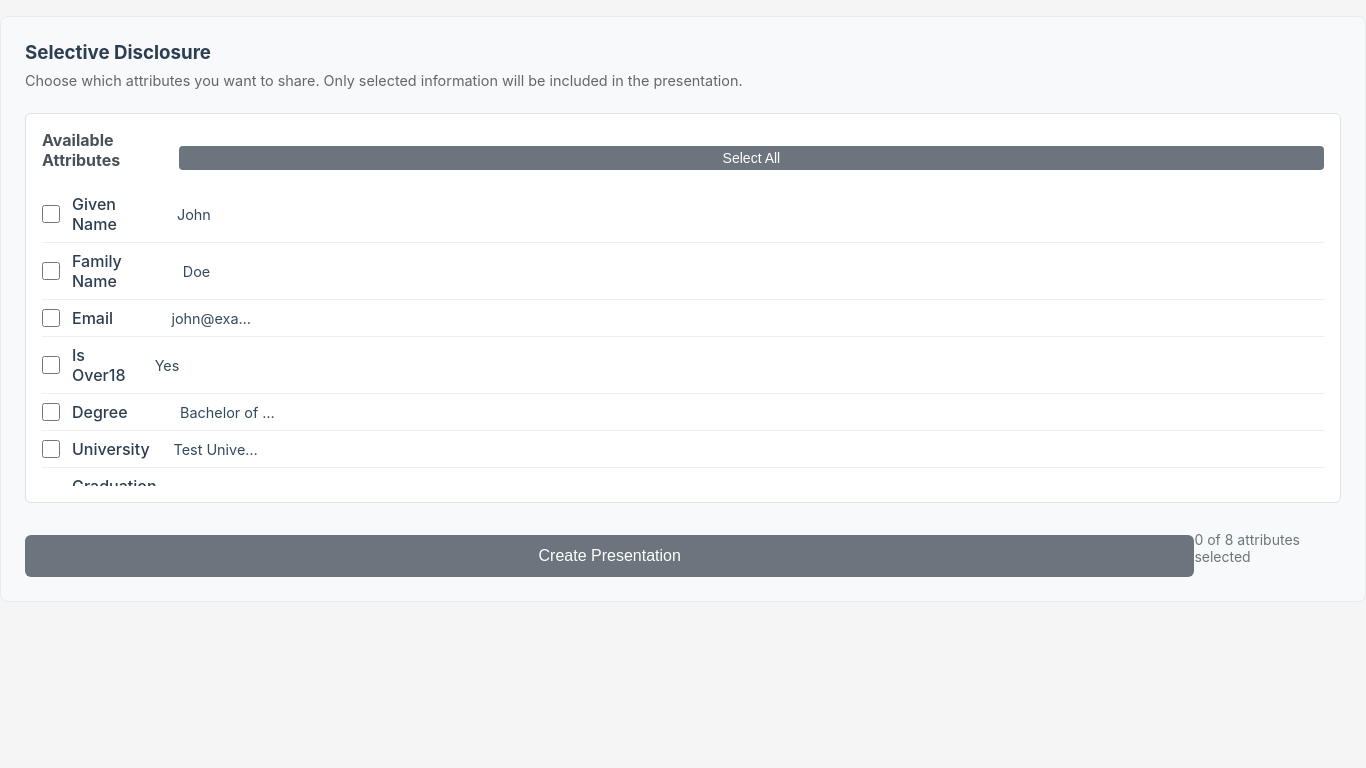
Scenario: SelectiveDisclosure › should create selective presentation when button clicked
# Select a few attributes
Click the checkbox labelled "Family Name Doe": (51, 271) [42,262,60,280]
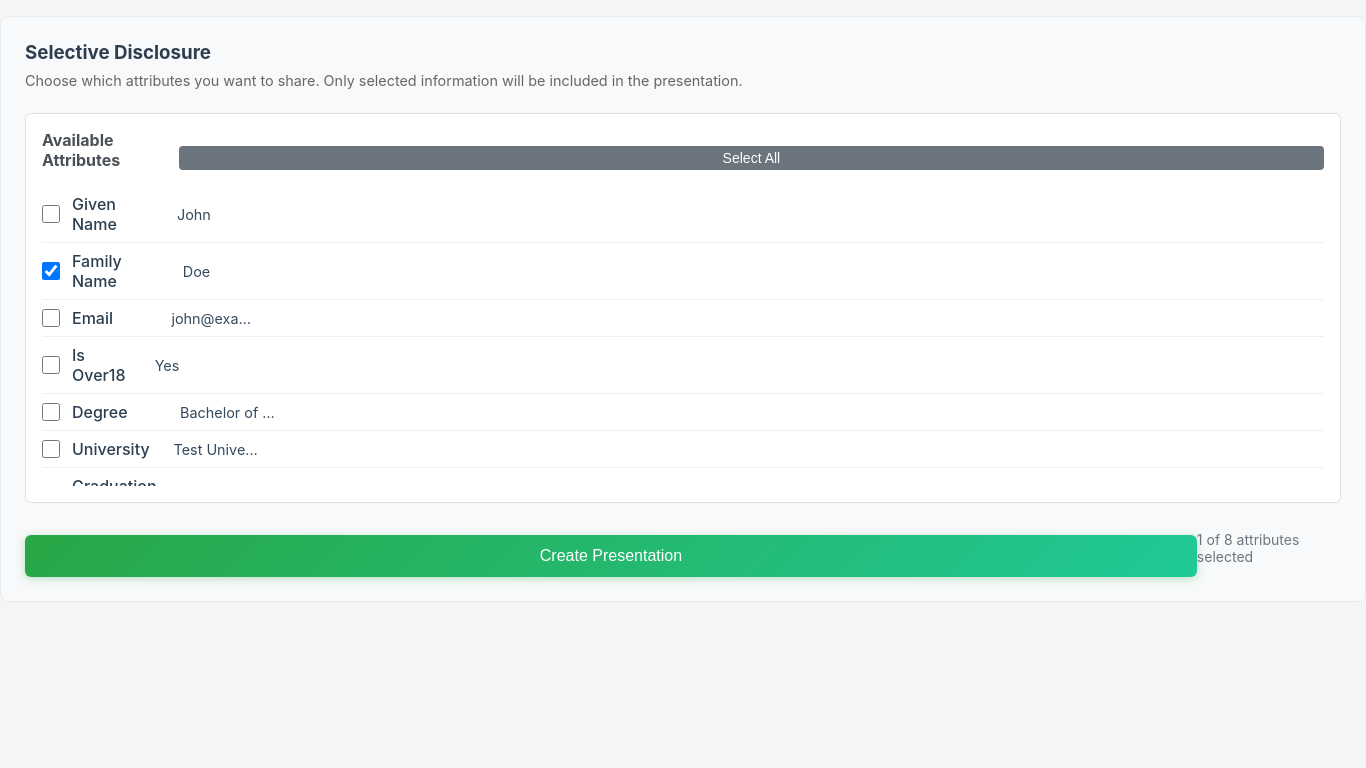
Click the checkbox labelled "Is Over18 Yes": (51, 365) [42,356,60,374]
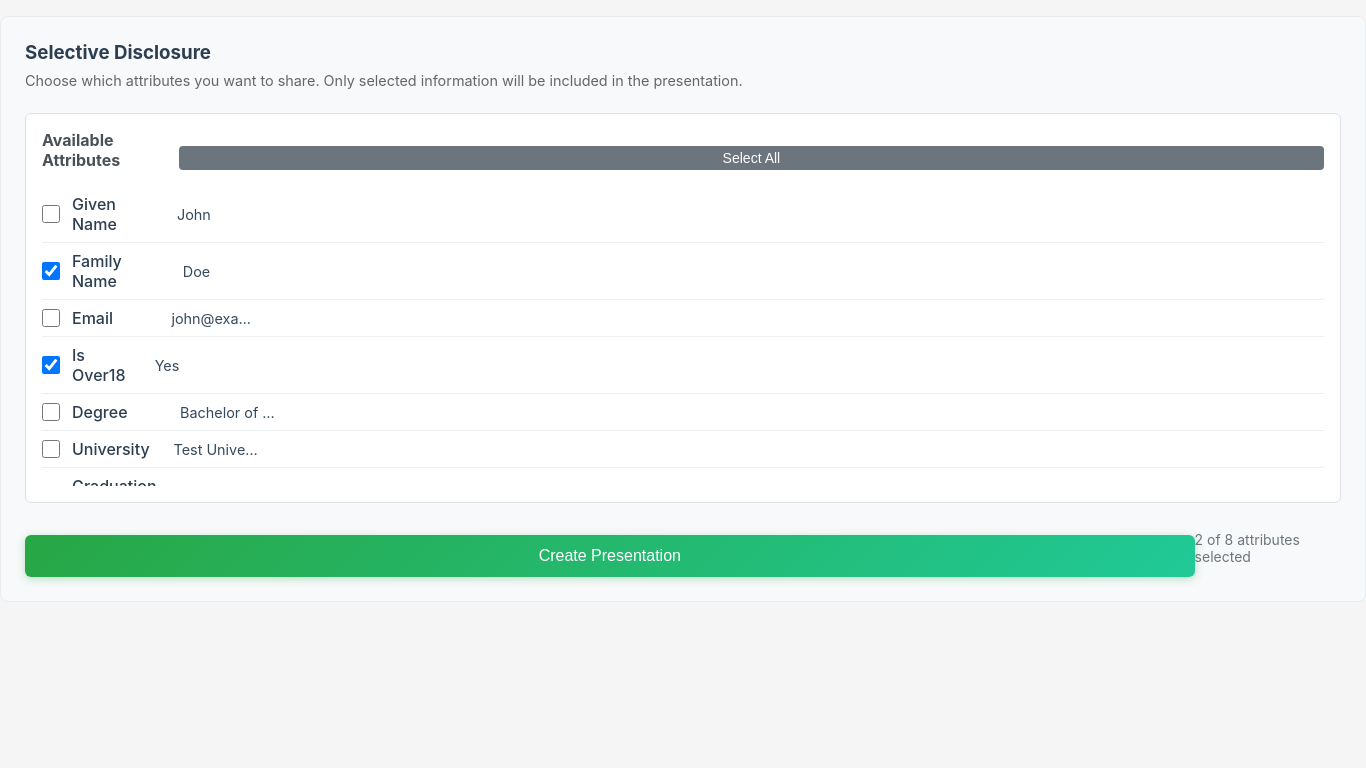
Click the button "Create Presentation": (610, 556) [25,535,1195,577]
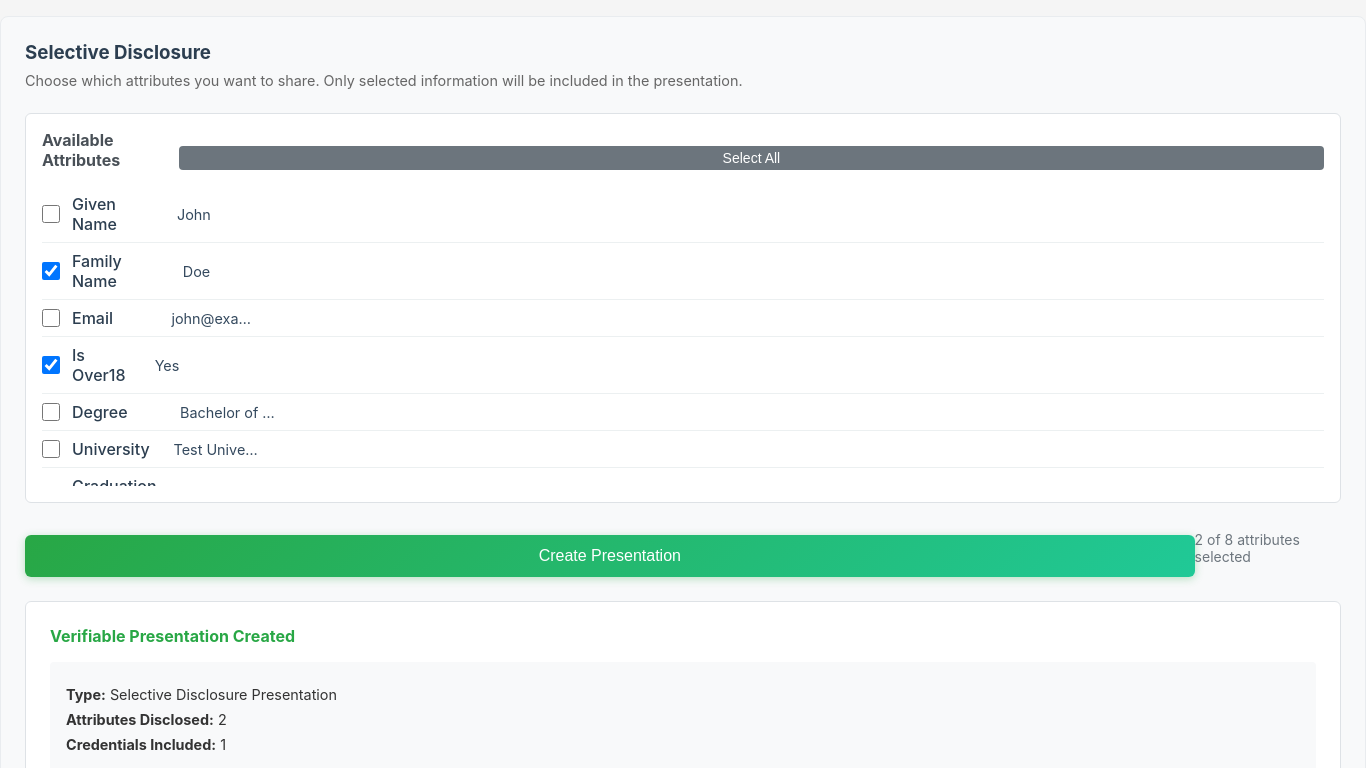
Expected: the heading "Verifiable Presentation Created" is shown, [50,626,295,646]
